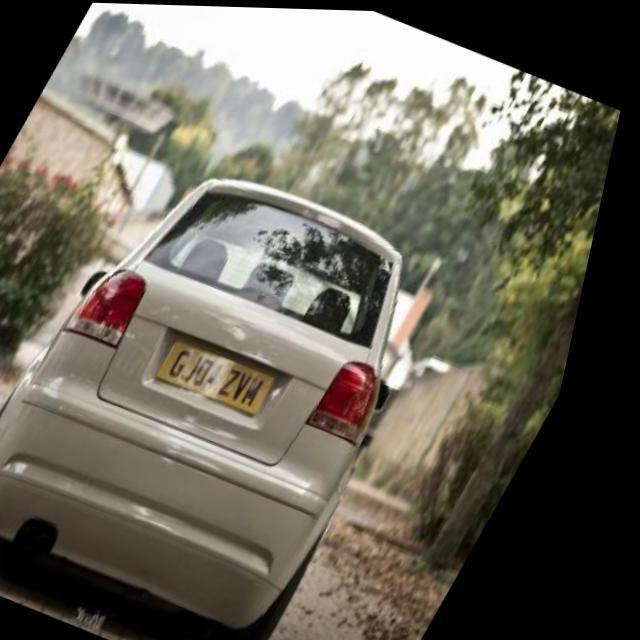license_plate: (165, 336, 299, 416)
